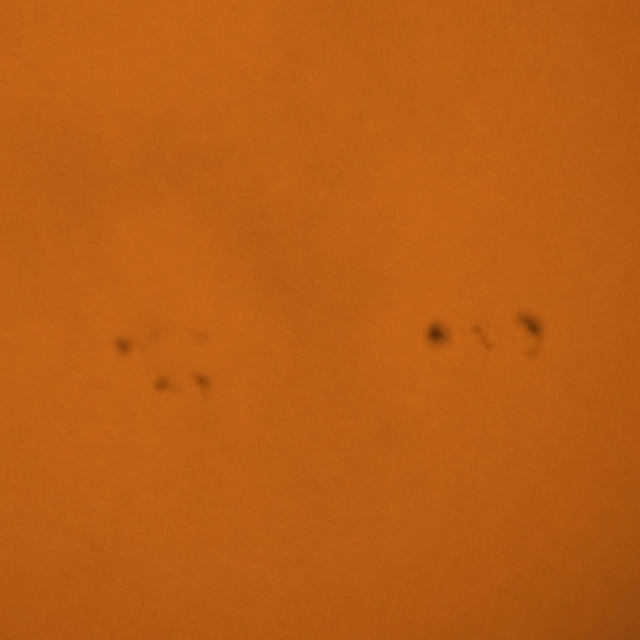sunspot: (424, 320, 490, 351), (152, 369, 212, 399), (513, 308, 545, 341), (422, 320, 452, 350), (469, 322, 496, 353), (520, 341, 550, 367), (191, 370, 213, 403), (111, 333, 135, 358)
